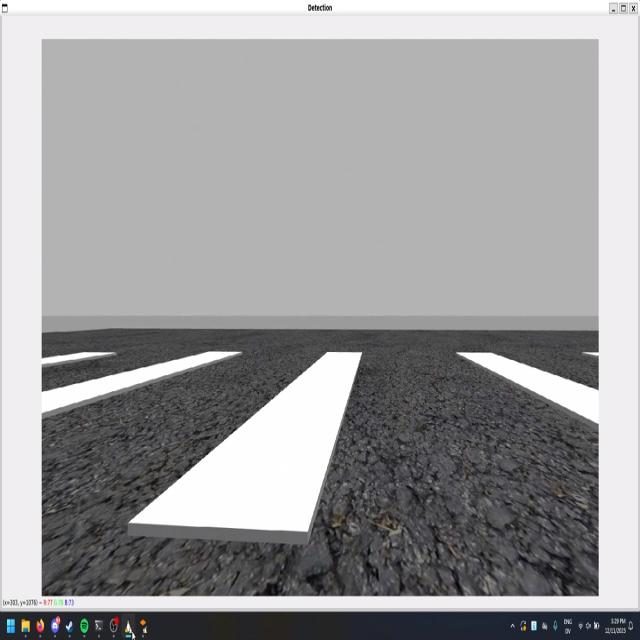crosswalk: (42, 349, 598, 564)
